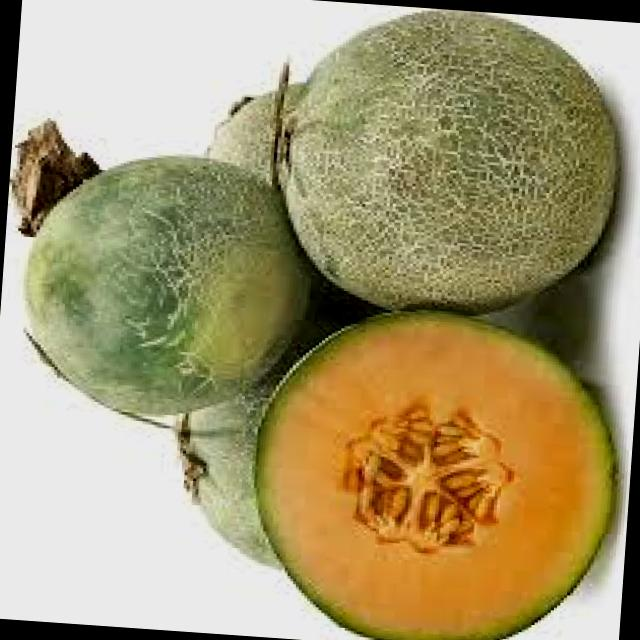cantaloupe: (239, 295, 628, 640), (256, 0, 630, 318)
